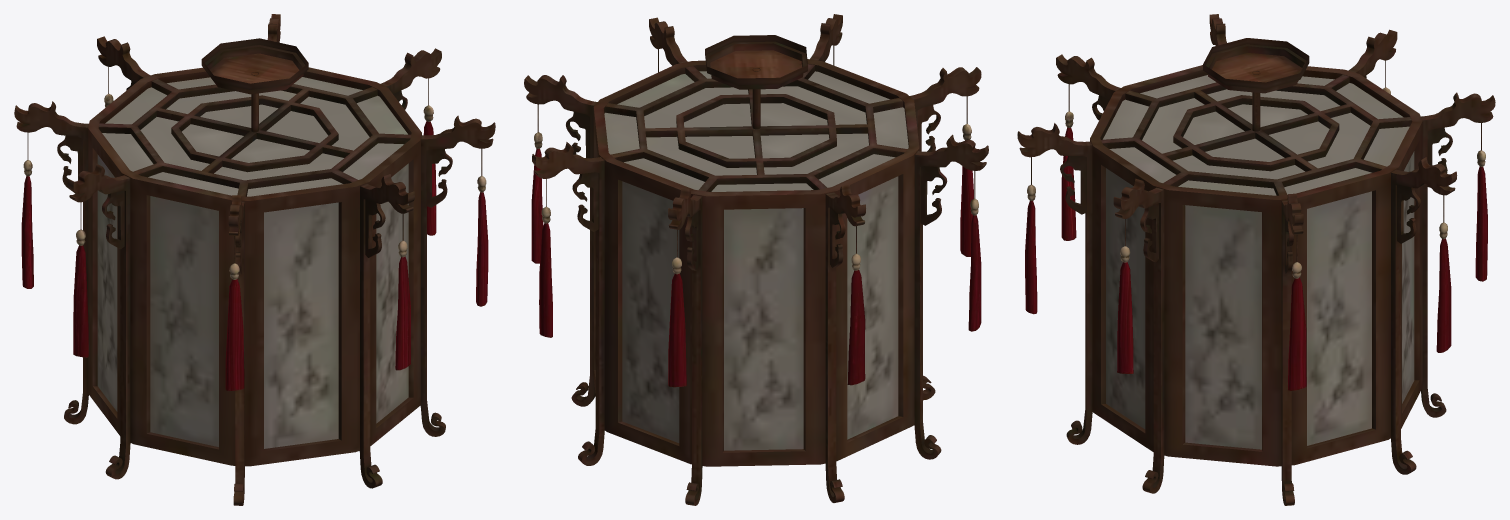
The model's file is chinese_chandelier.glb.
3 views of the same model, side by side, from view 1: azimuth 30°, elevation 25°; view 2: azimuth 150°, elevation 25°; view 3: azimuth 270°, elevation 25° (orthographic).
Visible parts, largest first — view 1: chinese_chandelier; view 2: chinese_chandelier; view 3: chinese_chandelier.
Boxes of the visible parts, x1,y1,x2,y2 form: chinese_chandelier: (14,14,495,505); chinese_chandelier: (524,14,988,505); chinese_chandelier: (1017,14,1495,505).
Bounding box in the file's own units: 0.8784 × 0.7483 × 0.8787.
1 material, 1 textured.
